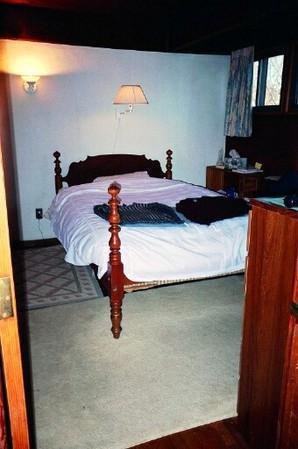Cama: (66, 182, 246, 275)
Ventana: (236, 57, 285, 110)
